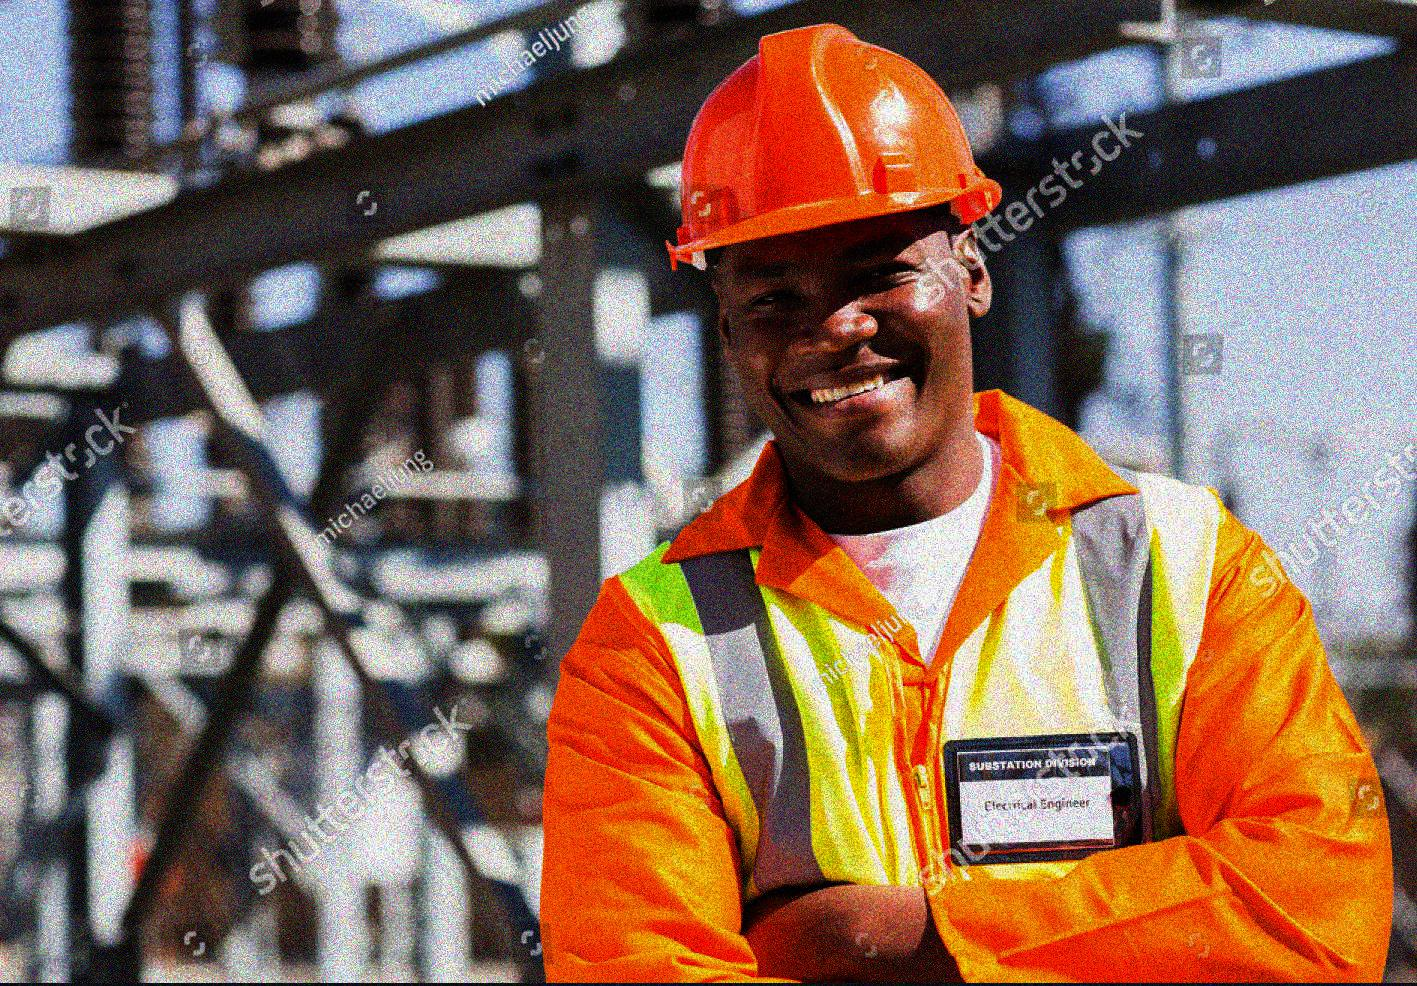helmet: (659, 19, 1002, 476)
